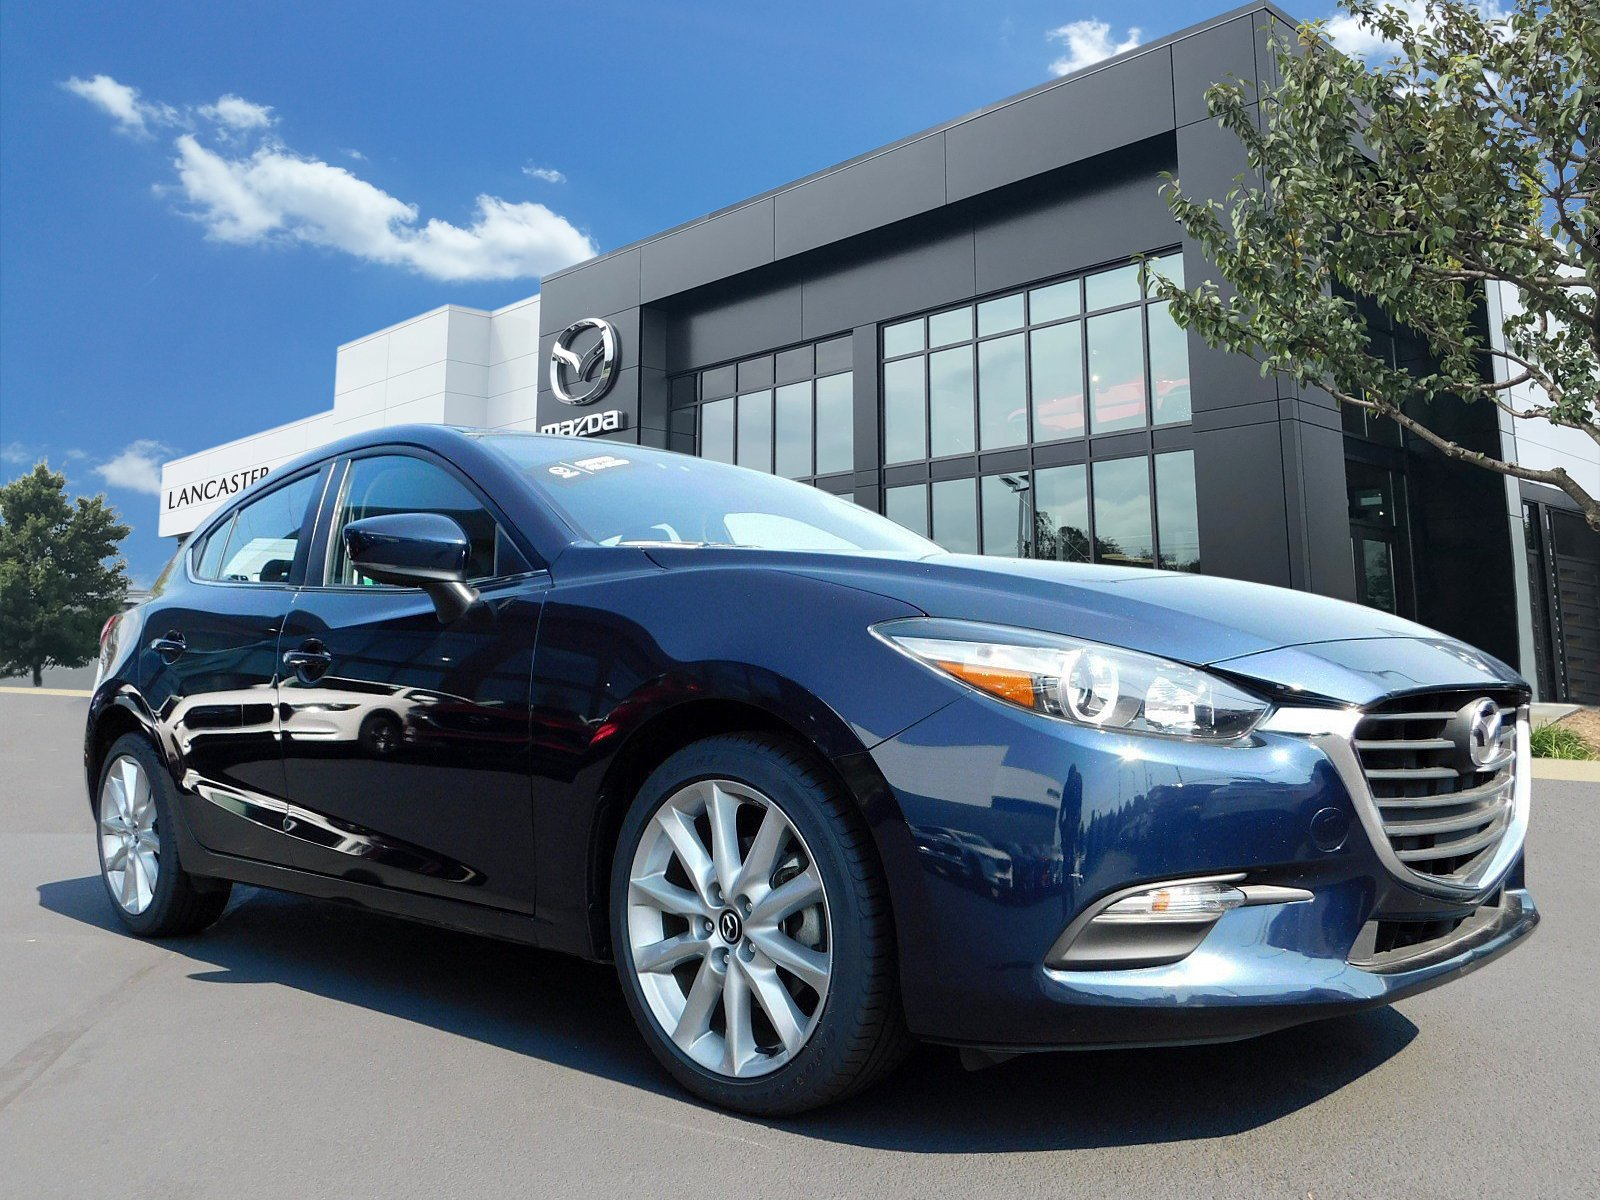Mazda3 Hatchback: (84, 424, 1542, 1124)
